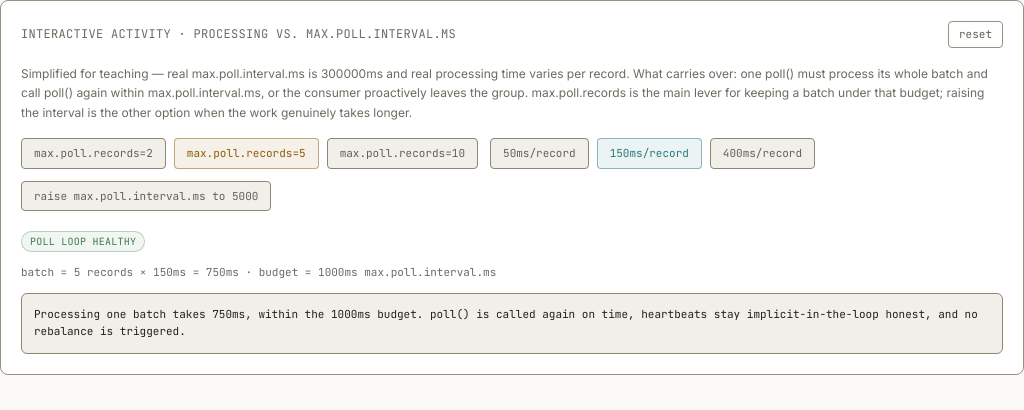
PollIntervalDemo › resets to the default configuration
Click the button "400ms/record".
click(762, 153)  # box [710,138,815,168]
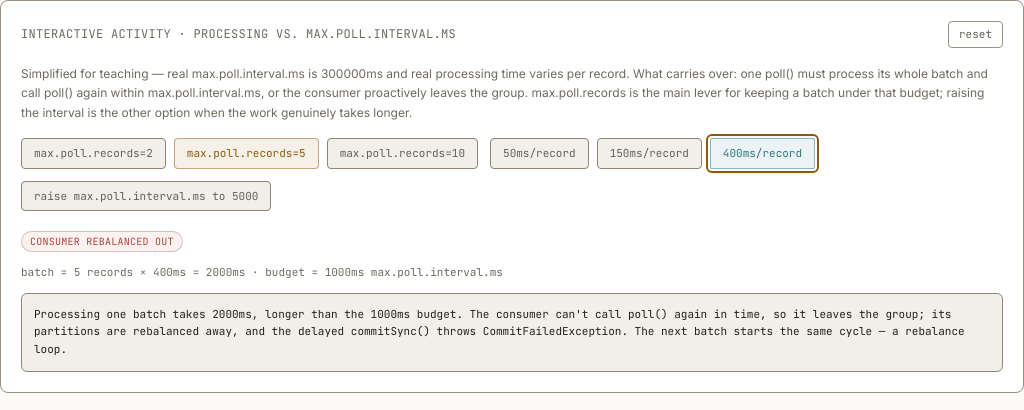
Click the button "reset".
click(976, 34)  # box [948,21,1003,48]
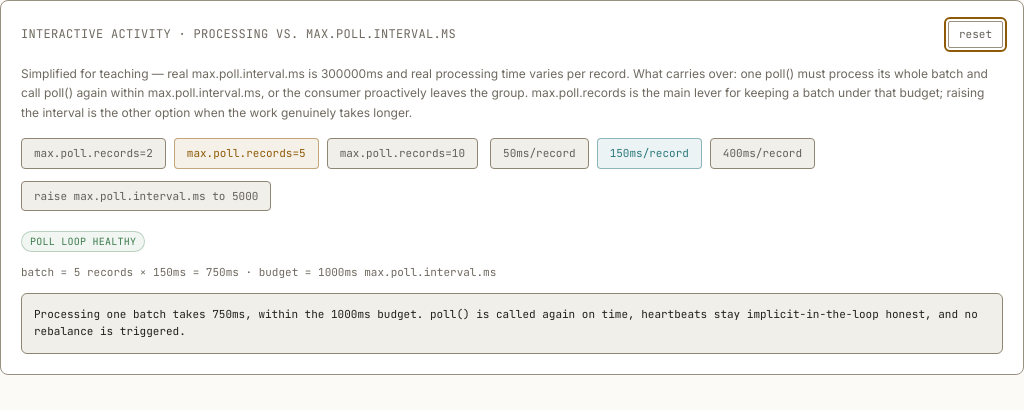
Check: the text with test id "batch-time" shows "= 750ms", box [21,265,496,279]
Check: the text "poll loop healthy" is shown, box [21,231,145,252]
